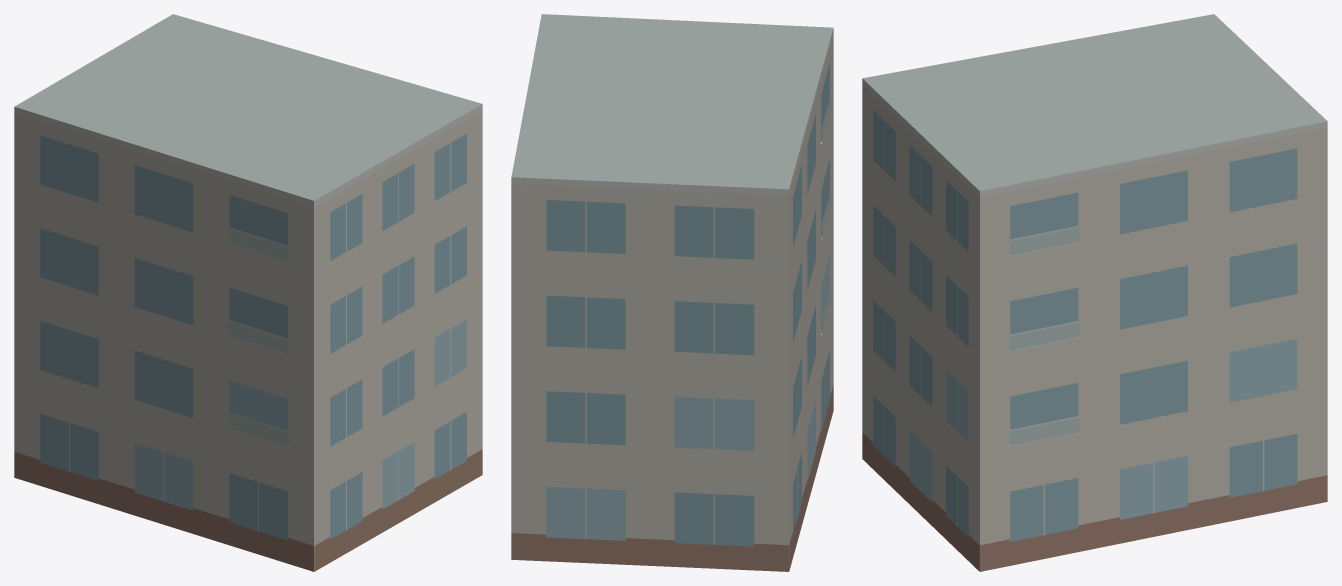
Rendered from survey-upis-32992741.glb.
3 renders of one model, left to right at view 1: azimuth 30°, elevation 25°; view 2: azimuth 150°, elevation 25°; view 3: azimuth 270°, elevation 25°, orthographic. The views are drawn at different scales.
Visible parts, largest first — view 1: survey-upis-32992741.tmp; view 2: survey-upis-32992741.tmp; view 3: survey-upis-32992741.tmp.
Part boxes in pixels (<box>): survey-upis-32992741.tmp: <box>14,14,482,571</box>; survey-upis-32992741.tmp: <box>511,14,833,571</box>; survey-upis-32992741.tmp: <box>862,14,1327,571</box>.
Bounding box in the file's own units: 14.1 × 14.1 × 15.63.
